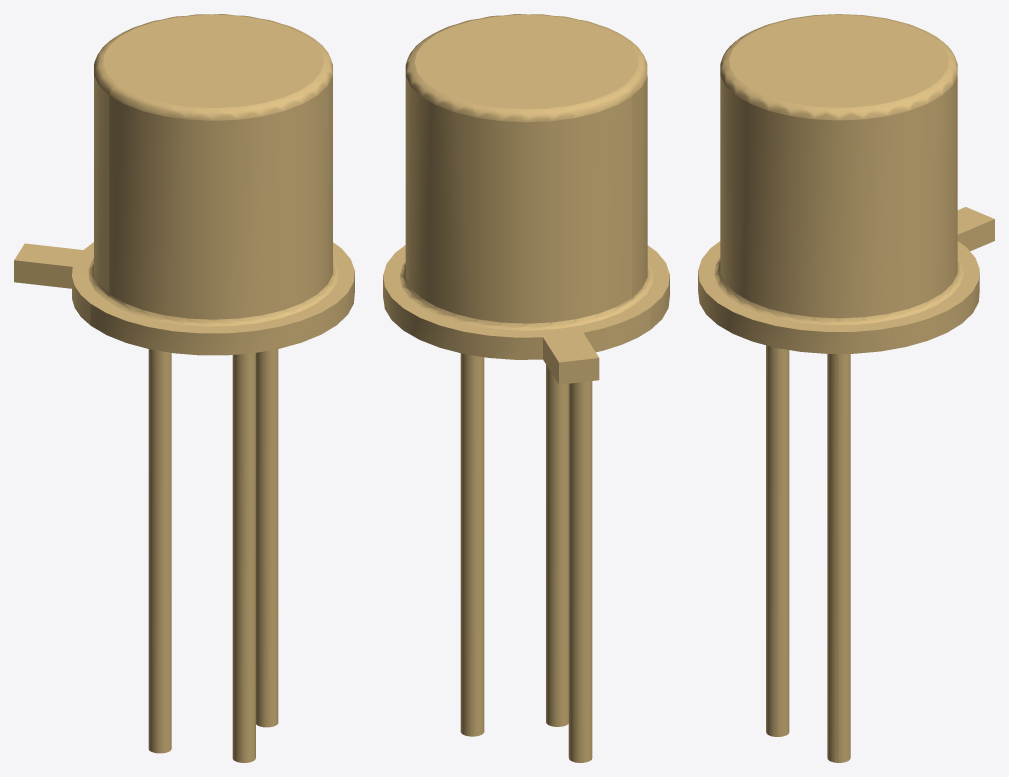
3 renders of one model, left to right at view 1: azimuth 30°, elevation 25°; view 2: azimuth 150°, elevation 25°; view 3: azimuth 270°, elevation 25°, orthographic.
Visible parts, largest first — view 1: 0.75_0.5_0.25_0.9; view 2: 0.75_0.5_0.25_0.9; view 3: 0.75_0.5_0.25_0.9.
Boxes of the visible parts, left/top/right/bottom form: 0.75_0.5_0.25_0.9: left=14, top=14, right=354, bottom=762; 0.75_0.5_0.25_0.9: left=383, top=14, right=669, bottom=762; 0.75_0.5_0.25_0.9: left=698, top=14, right=994, bottom=762.
Bounding box in the file's own units: 0.6137 × 1.53 × 0.6146.
